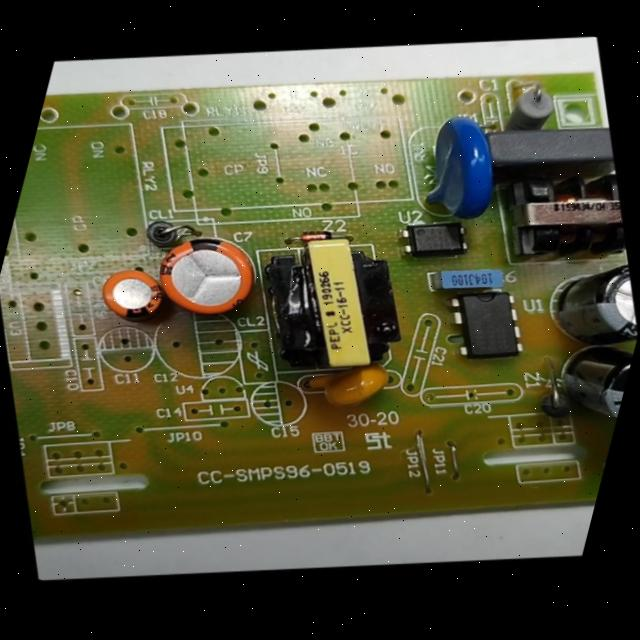Cap1: (132, 207, 282, 342)
Cap2: (77, 244, 183, 338)
Cap3: (522, 239, 638, 369)
Cap4: (531, 322, 635, 449)
MOSFET: (422, 264, 553, 387)
Mov: (383, 91, 527, 241)
Resistor: (482, 65, 577, 149)
Transformer: (221, 201, 438, 410), (477, 142, 639, 290)
